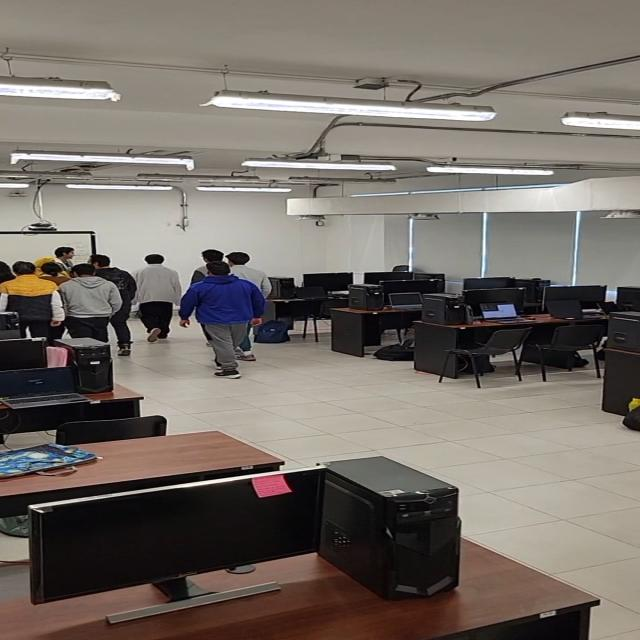Persona: (179, 260, 264, 379), (83, 254, 138, 354), (129, 254, 186, 343), (59, 263, 124, 341), (0, 262, 63, 336), (218, 250, 274, 298), (191, 248, 234, 288), (46, 246, 82, 274)
